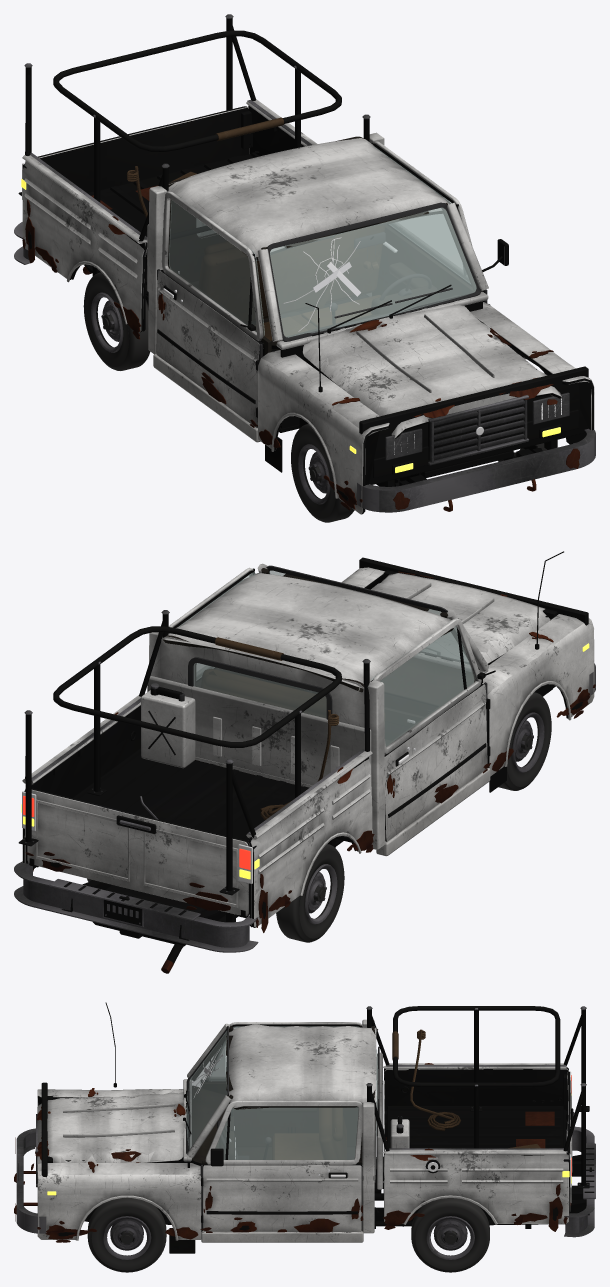
File: t1_orig.glb
3 renders of one model, top to bottom at view 1: azimuth 30°, elevation 25°; view 2: azimuth 150°, elevation 25°; view 3: azimuth 270°, elevation 25°, orthographic. The views are drawn at different scales.
Visible parts, largest first — view 1: body, panel_hood, panel_door_R, panel_fender_R, panel_tailgate, panel_bumper_F, panel_door_L, wheel_RR, panel_fender_L, wheel_FR; view 2: body, panel_door_R, panel_tailgate, panel_fender_R, panel_bumper_R, panel_hood, wheel_RR, wheel_FR, panel_door_L, panel_fender_L; view 3: body, panel_door_L, panel_fender_L, panel_hood, wheel_FL, wheel_RL, panel_bumper_R, panel_door_R, panel_bumper_F, panel_fender_R, panel_tailgate.
Boxes of the visible parts, x1,y1,x2,y2 form: body: (18, 14, 588, 511); panel_hood: (302, 305, 561, 438); panel_door_R: (156, 191, 264, 427); panel_fender_R: (249, 350, 389, 514); panel_tailgate: (37, 106, 263, 192); panel_bumper_F: (357, 428, 595, 512); panel_door_L: (373, 141, 508, 304); wheel_RR: (83, 272, 150, 370); panel_fender_L: (470, 302, 594, 444); wheel_FR: (291, 423, 354, 522); body: (18, 551, 588, 973); panel_door_R: (371, 618, 495, 841); panel_tailgate: (25, 788, 249, 917); panel_fender_R: (482, 614, 595, 792); panel_bumper_R: (14, 861, 258, 952); panel_hood: (371, 571, 550, 663); wheel_RR: (276, 844, 344, 942); wheel_FR: (498, 692, 551, 790); panel_door_L: (168, 567, 255, 682); panel_fender_L: (341, 567, 384, 589); body: (14, 1002, 589, 1242); panel_door_L: (201, 1100, 363, 1232); panel_fender_L: (37, 1161, 212, 1253); panel_hood: (31, 1092, 186, 1171); wheel_FL: (87, 1198, 166, 1272); wheel_RL: (411, 1198, 489, 1272); panel_bumper_R: (564, 1126, 595, 1237); panel_door_R: (203, 1022, 363, 1146); panel_bumper_F: (15, 1128, 46, 1233); panel_fender_R: (37, 1088, 183, 1106); panel_tailgate: (532, 1071, 574, 1213).
Bounding box in the file's own units: 2.08 × 1.78 × 4.95.
15 materials, 8 textured.
